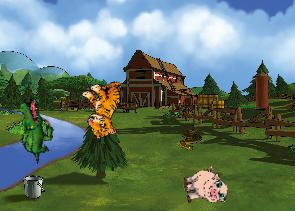crocodile: (3, 95, 65, 164)
pig: (180, 164, 229, 210)
tiger: (75, 75, 135, 141)
